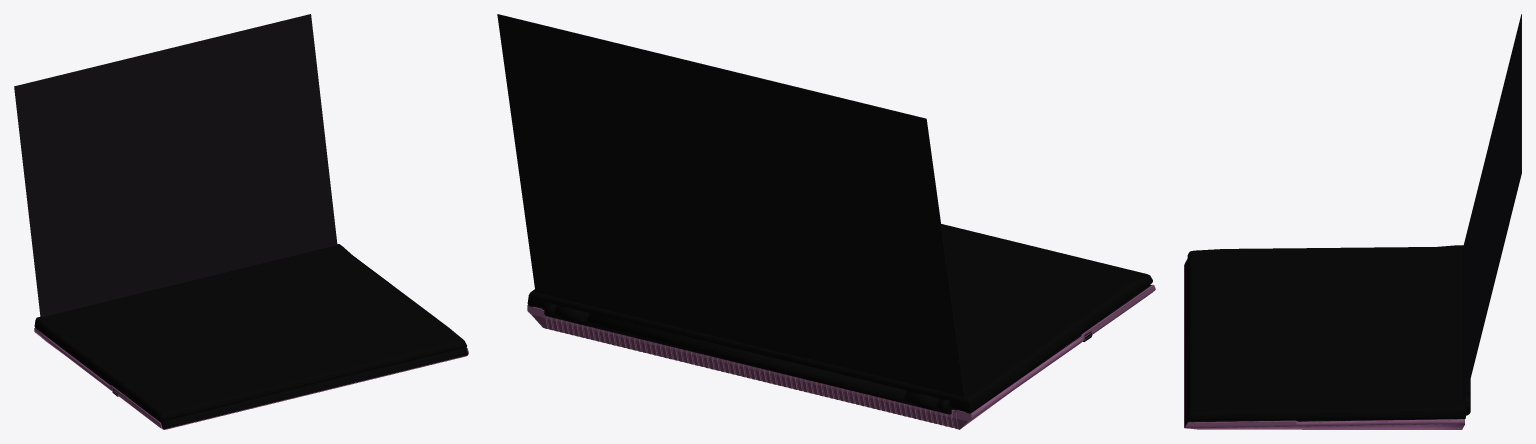
Rendered from ordi_t_.fbx.
3 views of the same model, side by side, from view 1: azimuth 30°, elevation 25°; view 2: azimuth 150°, elevation 25°; view 3: azimuth 270°, elevation 25° (orthographic). The views are drawn at different scales.
Parts seen in each view (by area): view 1: Plane.005_Plane.004; view 2: Plane.005_Plane.004; view 3: Plane.005_Plane.004.
Boxes of the visible parts, box(x1,y1,x2,y2) form: Plane.005_Plane.004: box(14, 14, 468, 429); Plane.005_Plane.004: box(497, 14, 1155, 429); Plane.005_Plane.004: box(1184, 14, 1521, 429).
Bounding box in the file's own units: 73.14 × 53.56 × 63.23.
